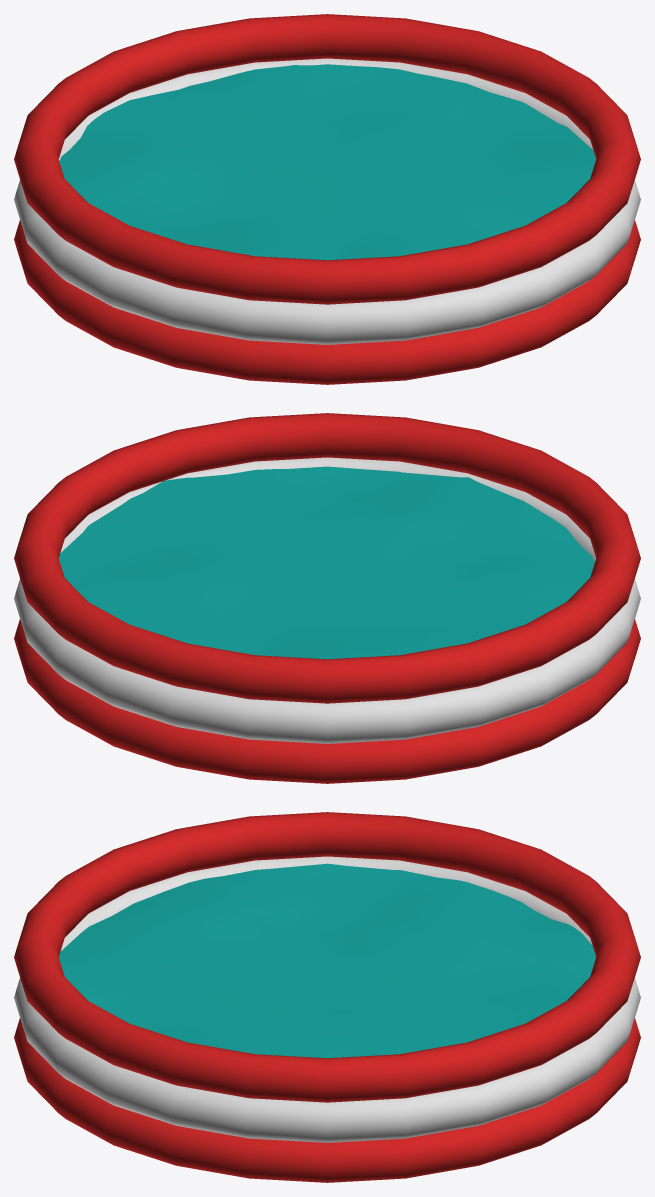
File: Piscine_export_test_01.FBX
3 views of the same model, one above another, from view 1: azimuth 30°, elevation 25°; view 2: azimuth 150°, elevation 25°; view 3: azimuth 270°, elevation 25° (orthographic).
Visible parts, largest first — view 1: Piscine test; view 2: Piscine test; view 3: Piscine test.
Boxes of the visible parts, x1,y1,x2,y2 form: Piscine test: (14, 14, 640, 384); Piscine test: (14, 413, 640, 783); Piscine test: (14, 812, 640, 1182).
Size of the model in its own units: 330 by 70.06 by 330.
